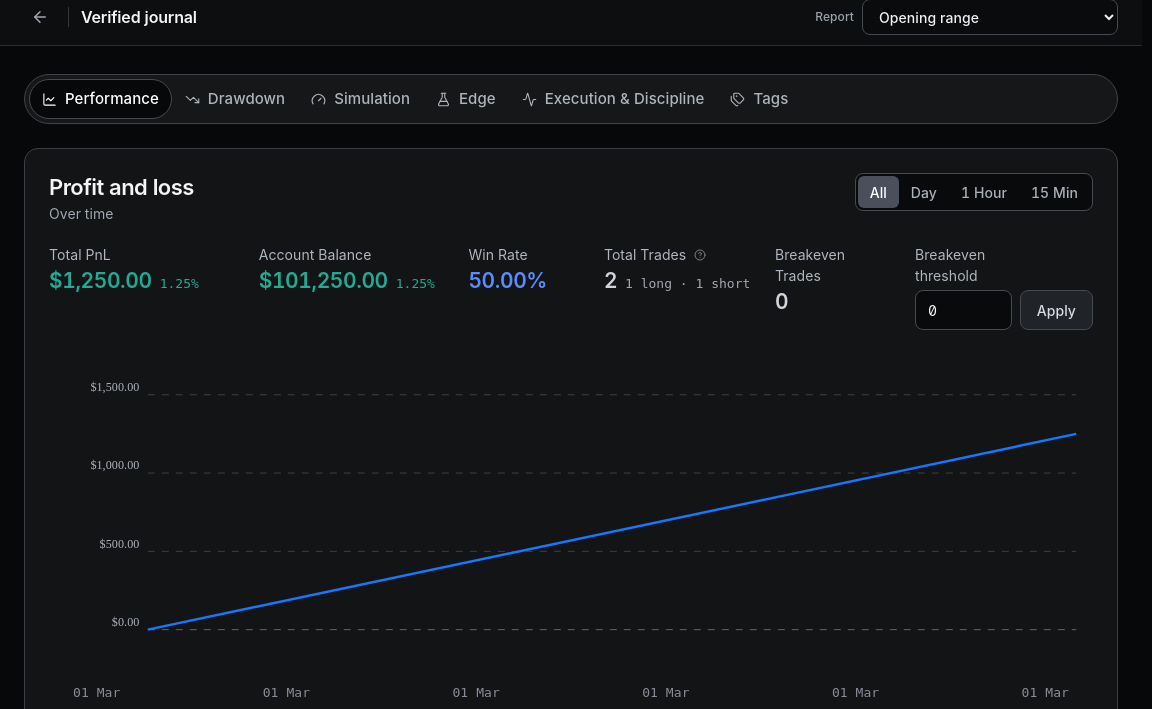
Test: AnalyticsScreen › runs all simulations through backend endpoints
Step 1. Click the tab "Simulation" → click(361, 99), box [298,79,423,119]
(page scrolled)
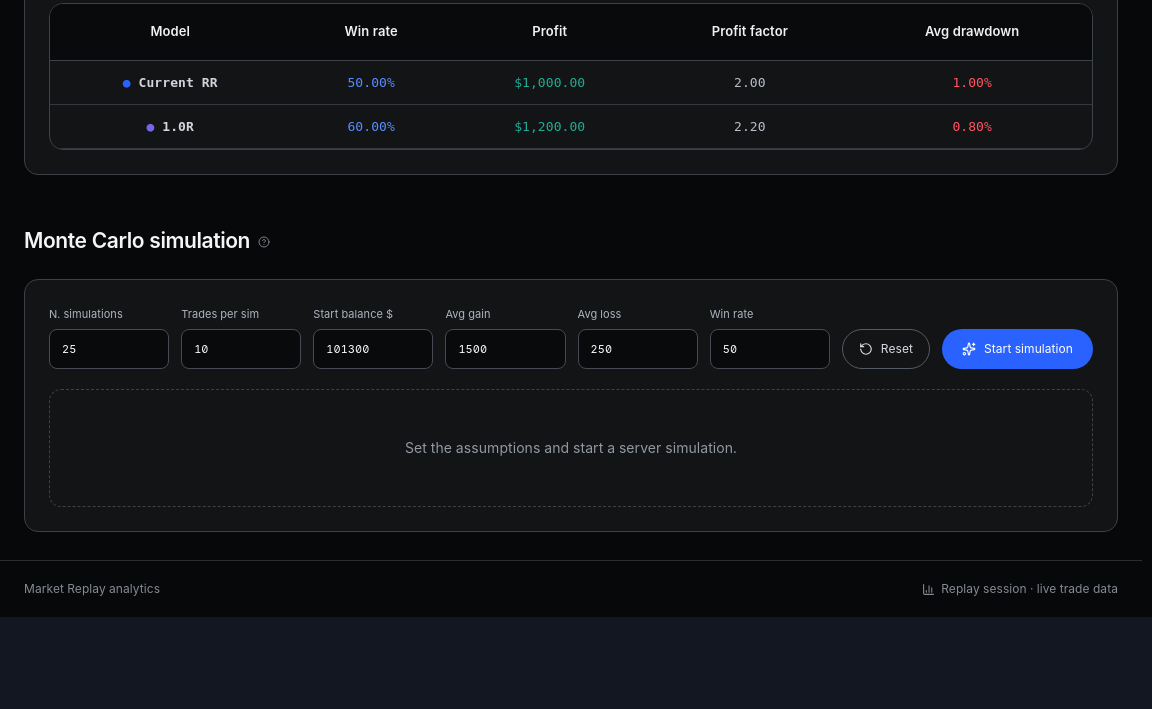
expect the table named "Risk-reward simulation results" is shown: met, box [50,4,1092,149]
expect the number field labelled "N. simulations" holds "25": met, box [49,329,169,369]
expect the number field labelled "Trades per sim" holds "10": met, box [181,329,301,369]
Step 2. Click the button "Start simulation" → click(1018, 349), box [942,329,1093,369]
(page scrolled)
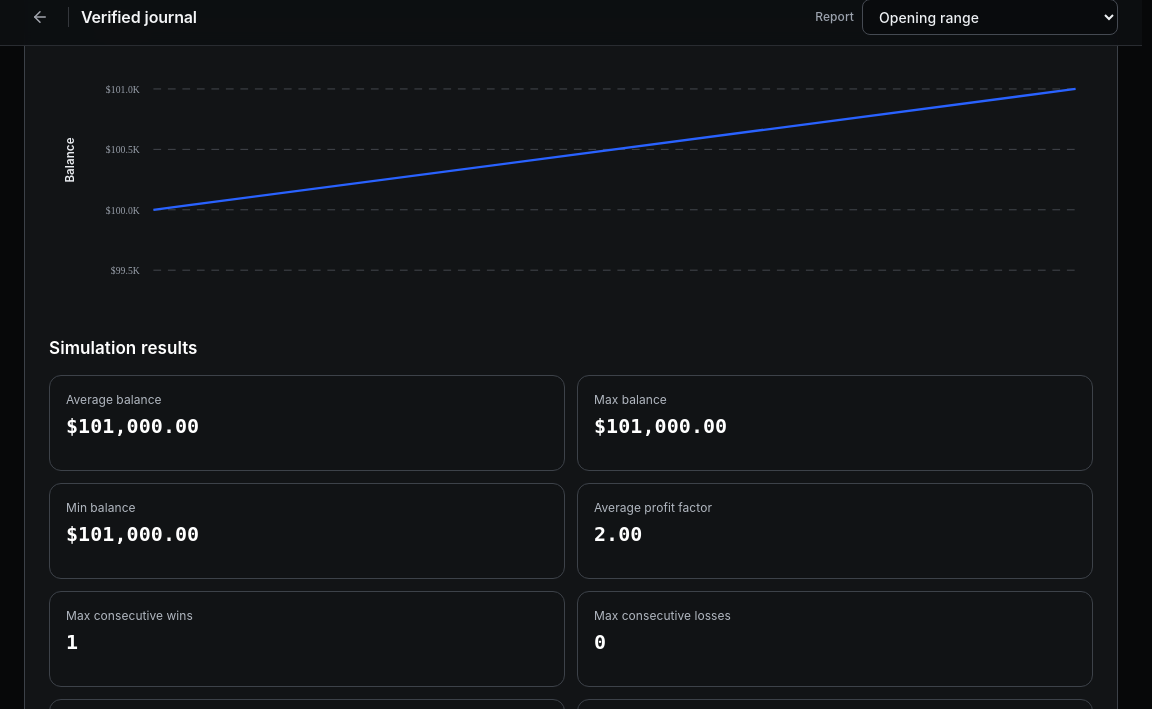
expect the heading "Simulation results" is shown: met, box [49,338,198,358]
